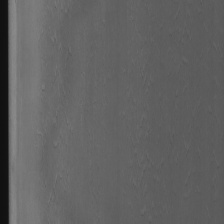silk_spot: (36, 5, 78, 188)
